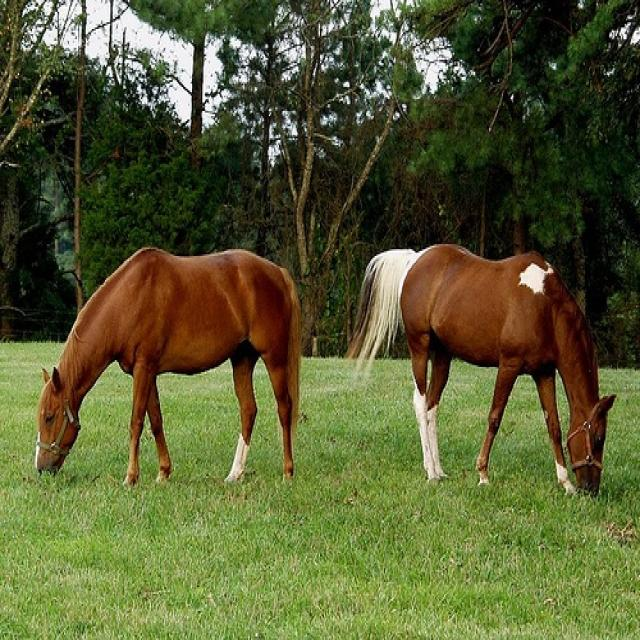horse: (347, 242, 616, 500), (34, 248, 300, 488)
